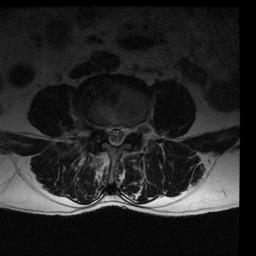CCS_normal: (112, 121, 120, 152)
LFS_stenosis: (128, 120, 134, 142)
LLS_normal: (121, 121, 127, 146)
RFS_stenosis: (97, 118, 104, 139)
RLS_normal: (104, 121, 112, 146)
